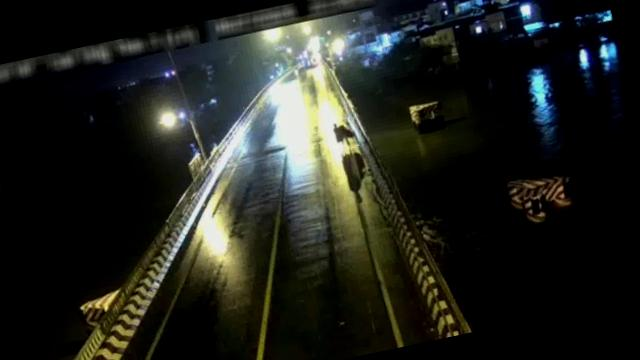Bike: (330, 116, 360, 152)
